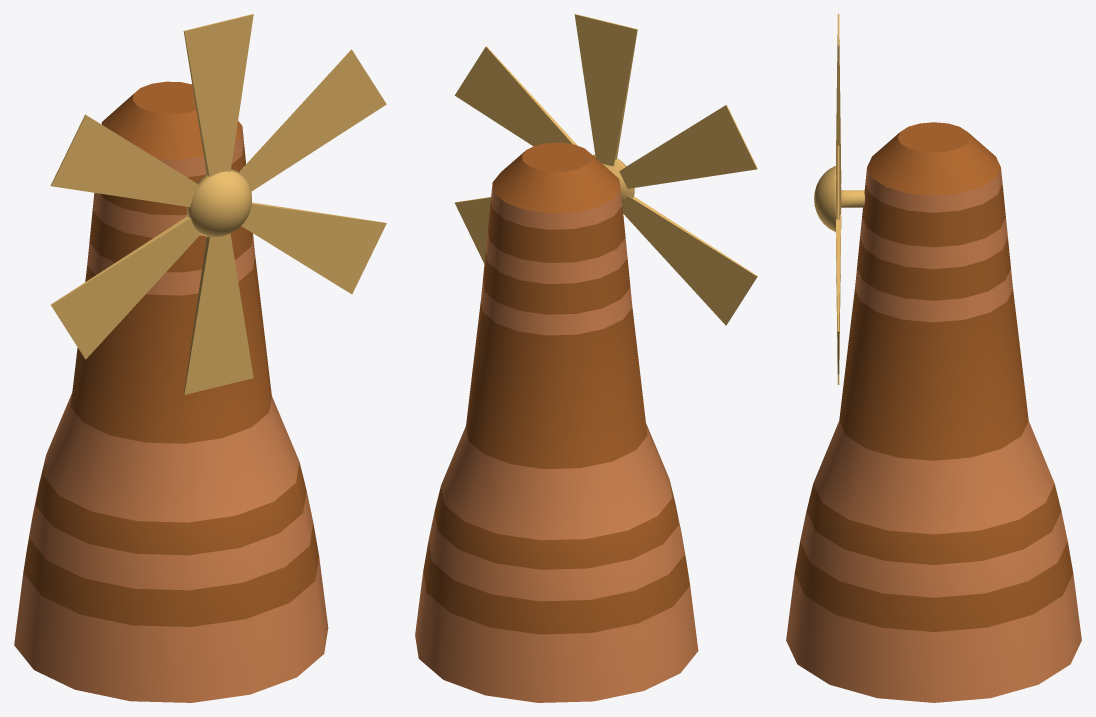
File: Melnitza.fbx
The picture shows the model from 3 angles, left to right: view 1: azimuth 30°, elevation 25°; view 2: azimuth 150°, elevation 25°; view 3: azimuth 270°, elevation 25°; orthographic projection. The views are drawn at different scales.
Visible parts, largest first — view 1: Cylinder.010, Sphere; view 2: Cylinder.010, Sphere; view 3: Cylinder.010, Sphere.
Boxes of the visible parts, bbox=[...] form: Cylinder.010: bbox=[14, 81, 328, 702]; Sphere: bbox=[50, 14, 386, 394]; Cylinder.010: bbox=[415, 142, 698, 702]; Sphere: bbox=[454, 14, 757, 325]; Cylinder.010: bbox=[786, 122, 1081, 702]; Sphere: bbox=[814, 14, 864, 384].
Bounding box in the file's own units: 402 × 747 × 329.
